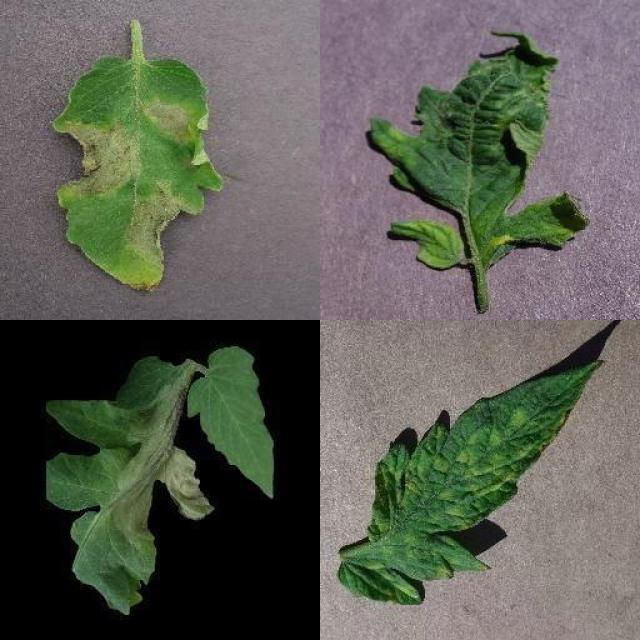Healthy: (185, 346, 276, 500)
Late Blight: (45, 360, 214, 615), (50, 55, 222, 296)
